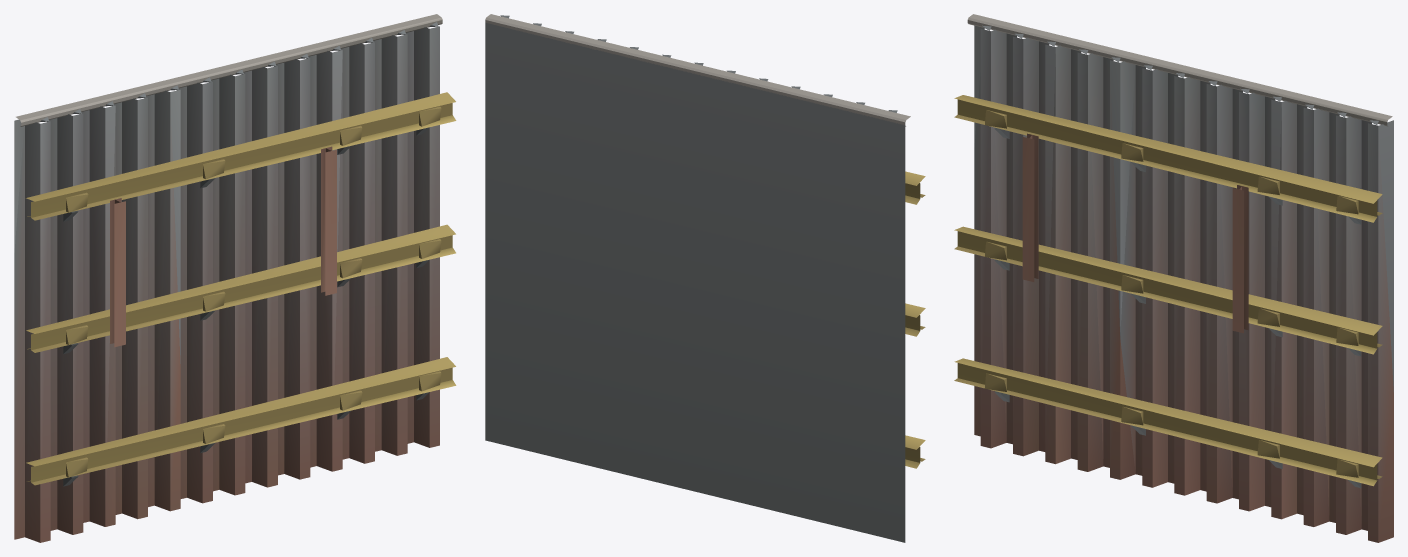
The model's file is pilewall.lod1.glb.
3 renders of one model, left to right at view 1: azimuth 30°, elevation 25°; view 2: azimuth 150°, elevation 25°; view 3: azimuth 330°, elevation 25°, orthographic.
Size of the model in its own units: 8 by 7.68 by 0.842.
